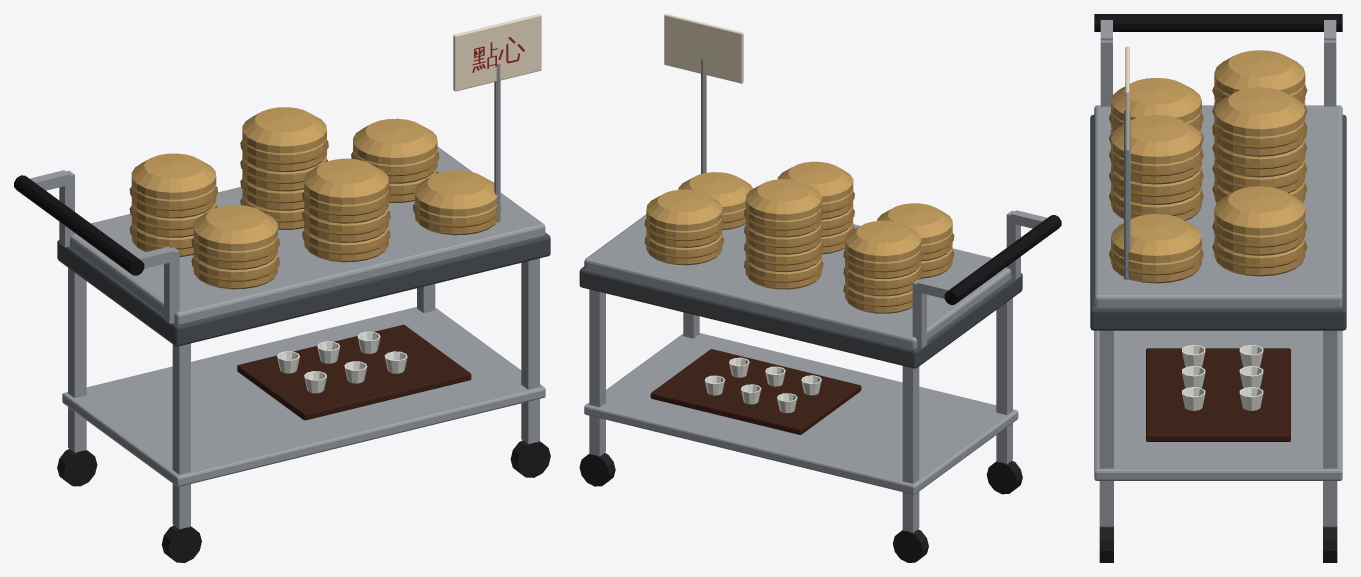
File: trolley.glb
3 renders of one model, left to right at view 1: azimuth 30°, elevation 25°; view 2: azimuth 150°, elevation 25°; view 3: azimuth 270°, elevation 25°, orthographic. The views are drawn at different scales.
Parts seen in each view (by area): view 1: trolley; view 2: trolley; view 3: trolley.
Boxes of the visible parts, x1,y1,x2,y2 form: trolley: (14, 14, 550, 562); trolley: (579, 14, 1061, 562); trolley: (1090, 14, 1346, 562).
Size of the model in its own units: 1.27 by 1.28 by 0.62.
